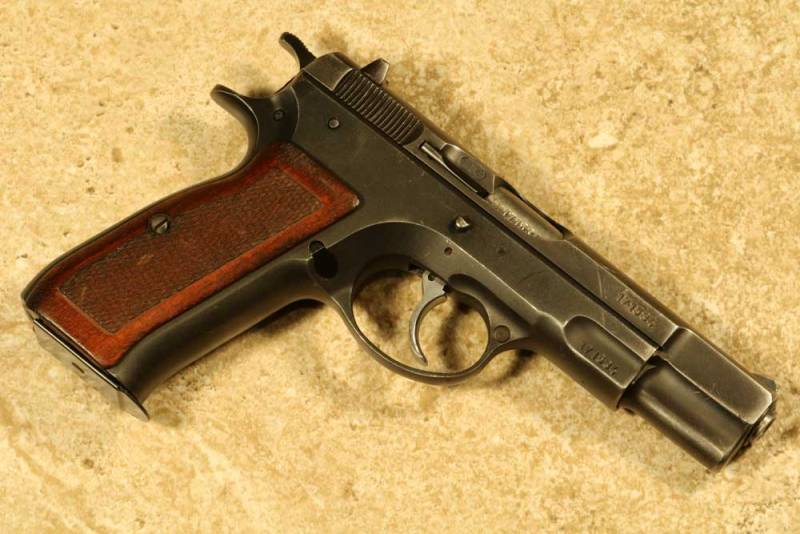Arma Real: (20, 27, 784, 493)
